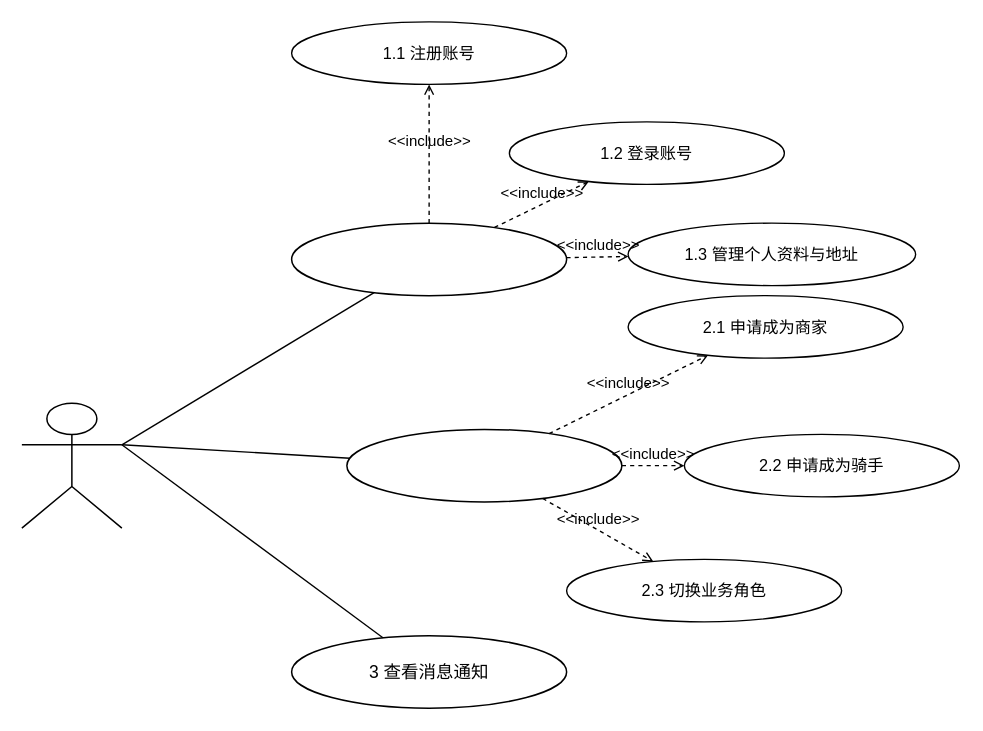
The diagram is 983 pixels wide and 731 high, and some of its shapes have lost their labels. Here are the shapes that lost their labels. From the top down, the centre of each, then its label:
At (x=428, y=259): "1 管理账号".
At (x=71, y=465): "用户".
At (x=484, y=465): "2 管理业务角色".
